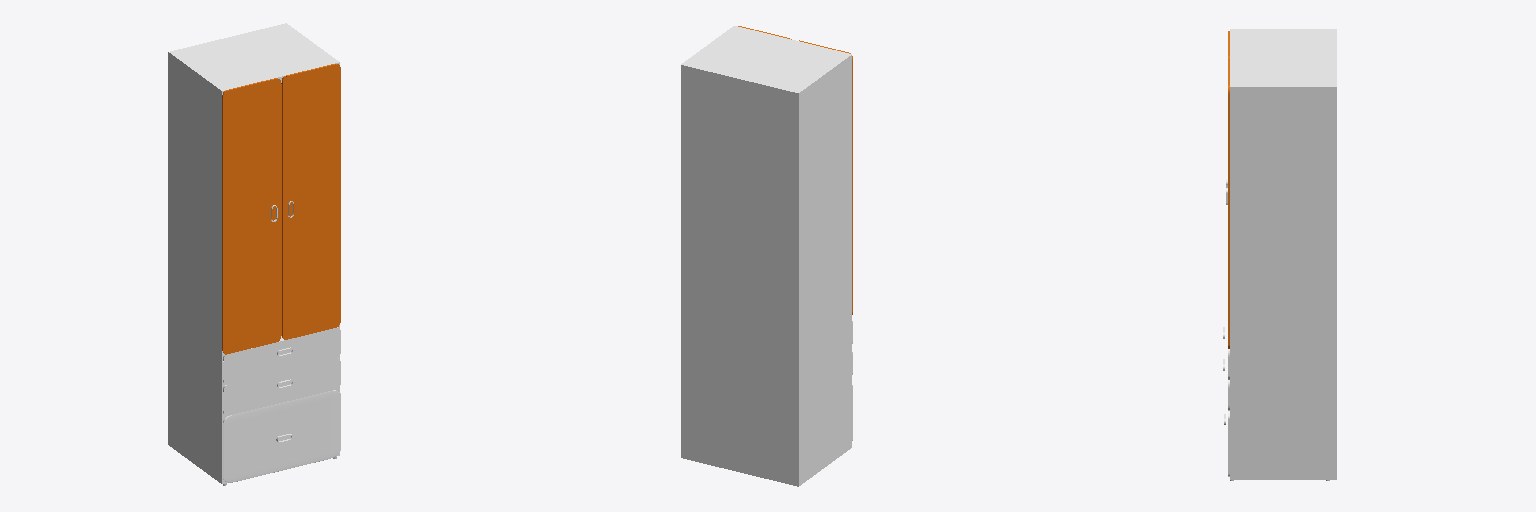
Rendered from StorageFurniture_StuvaFritidsWardrobeOrange.obj.
3 views of the same model, side by side, from view 1: azimuth 30°, elevation 25°; view 2: azimuth 150°, elevation 25°; view 3: azimuth 270°, elevation 25° (orthographic).
Parts seen in each view (by area): view 1: obj_0; view 2: obj_0; view 3: obj_0.
Part boxes in pixels (bbox=[...]): obj_0: bbox=[168, 23, 340, 485]; obj_0: bbox=[681, 26, 852, 486]; obj_0: bbox=[1223, 29, 1336, 480].
Bounding box in the file's own units: 60.1 × 192 × 50.